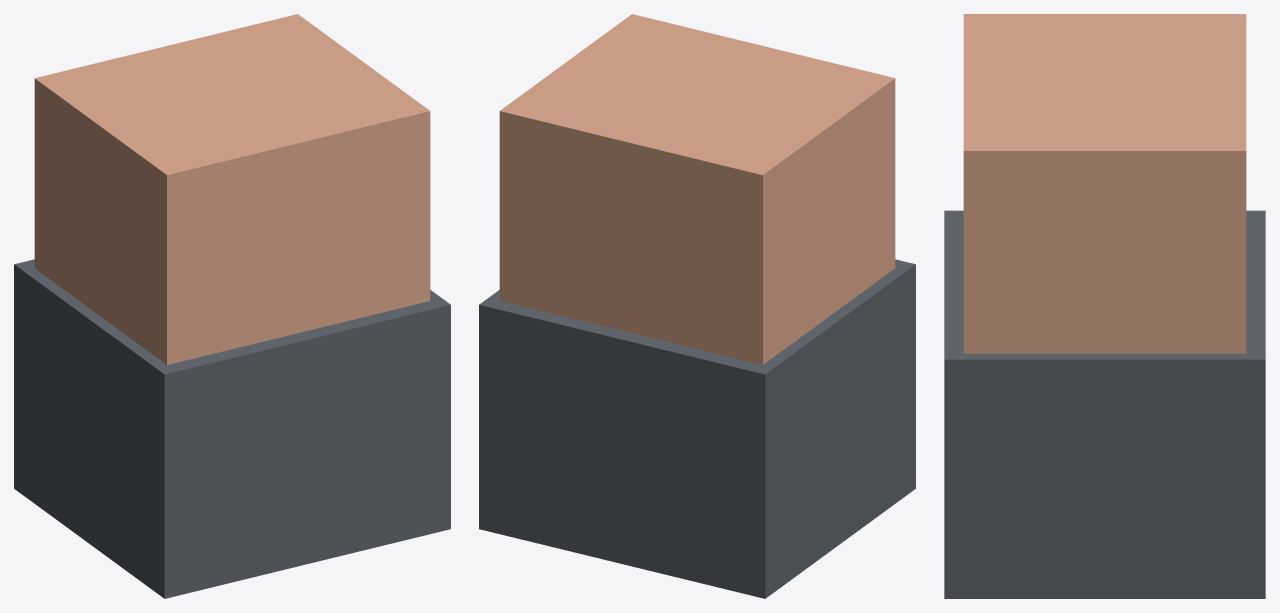
File: print___utility_office_asset_library_62.glb
3 views of the same model, side by side, from view 1: azimuth 30°, elevation 25°; view 2: azimuth 150°, elevation 25°; view 3: azimuth 270°, elevation 25° (orthographic). The views are drawn at different scales.
Parts seen in each view (by area): view 1: Cube; view 2: Cube; view 3: Cube.
Boxes of the visible parts, <box> form: Cube: <box>14,14,450,598</box>; Cube: <box>479,14,915,598</box>; Cube: <box>944,14,1265,598</box>.
Size of the model in its own units: 0.7083 by 0.98 by 0.6458.
